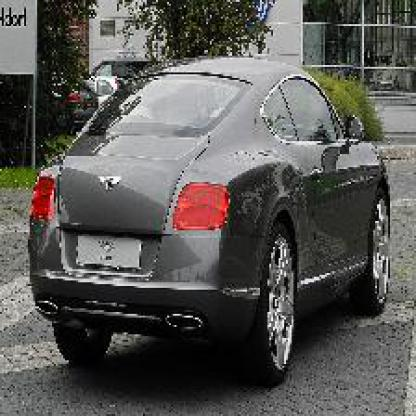not_emergency: (30, 50, 412, 370)
